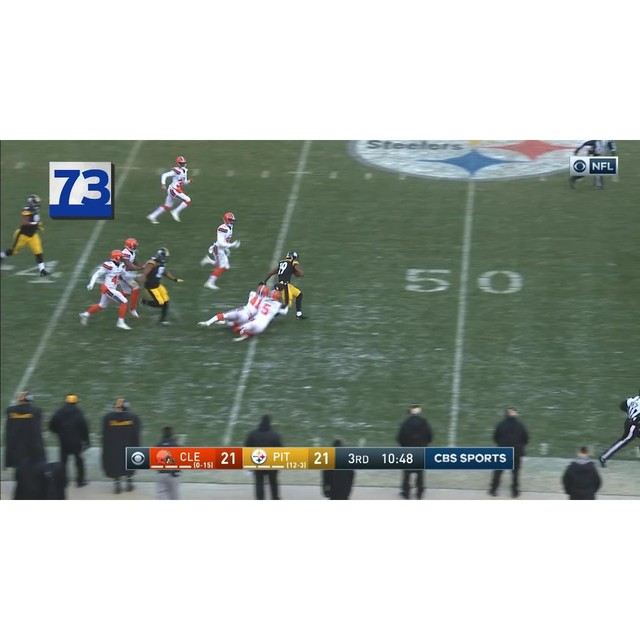american-football-player: (2, 194, 52, 278), (80, 251, 132, 331), (138, 248, 183, 325), (200, 283, 270, 332), (198, 212, 243, 288), (146, 158, 194, 225), (234, 289, 287, 343), (269, 250, 308, 321)
referee: (599, 388, 640, 468)
